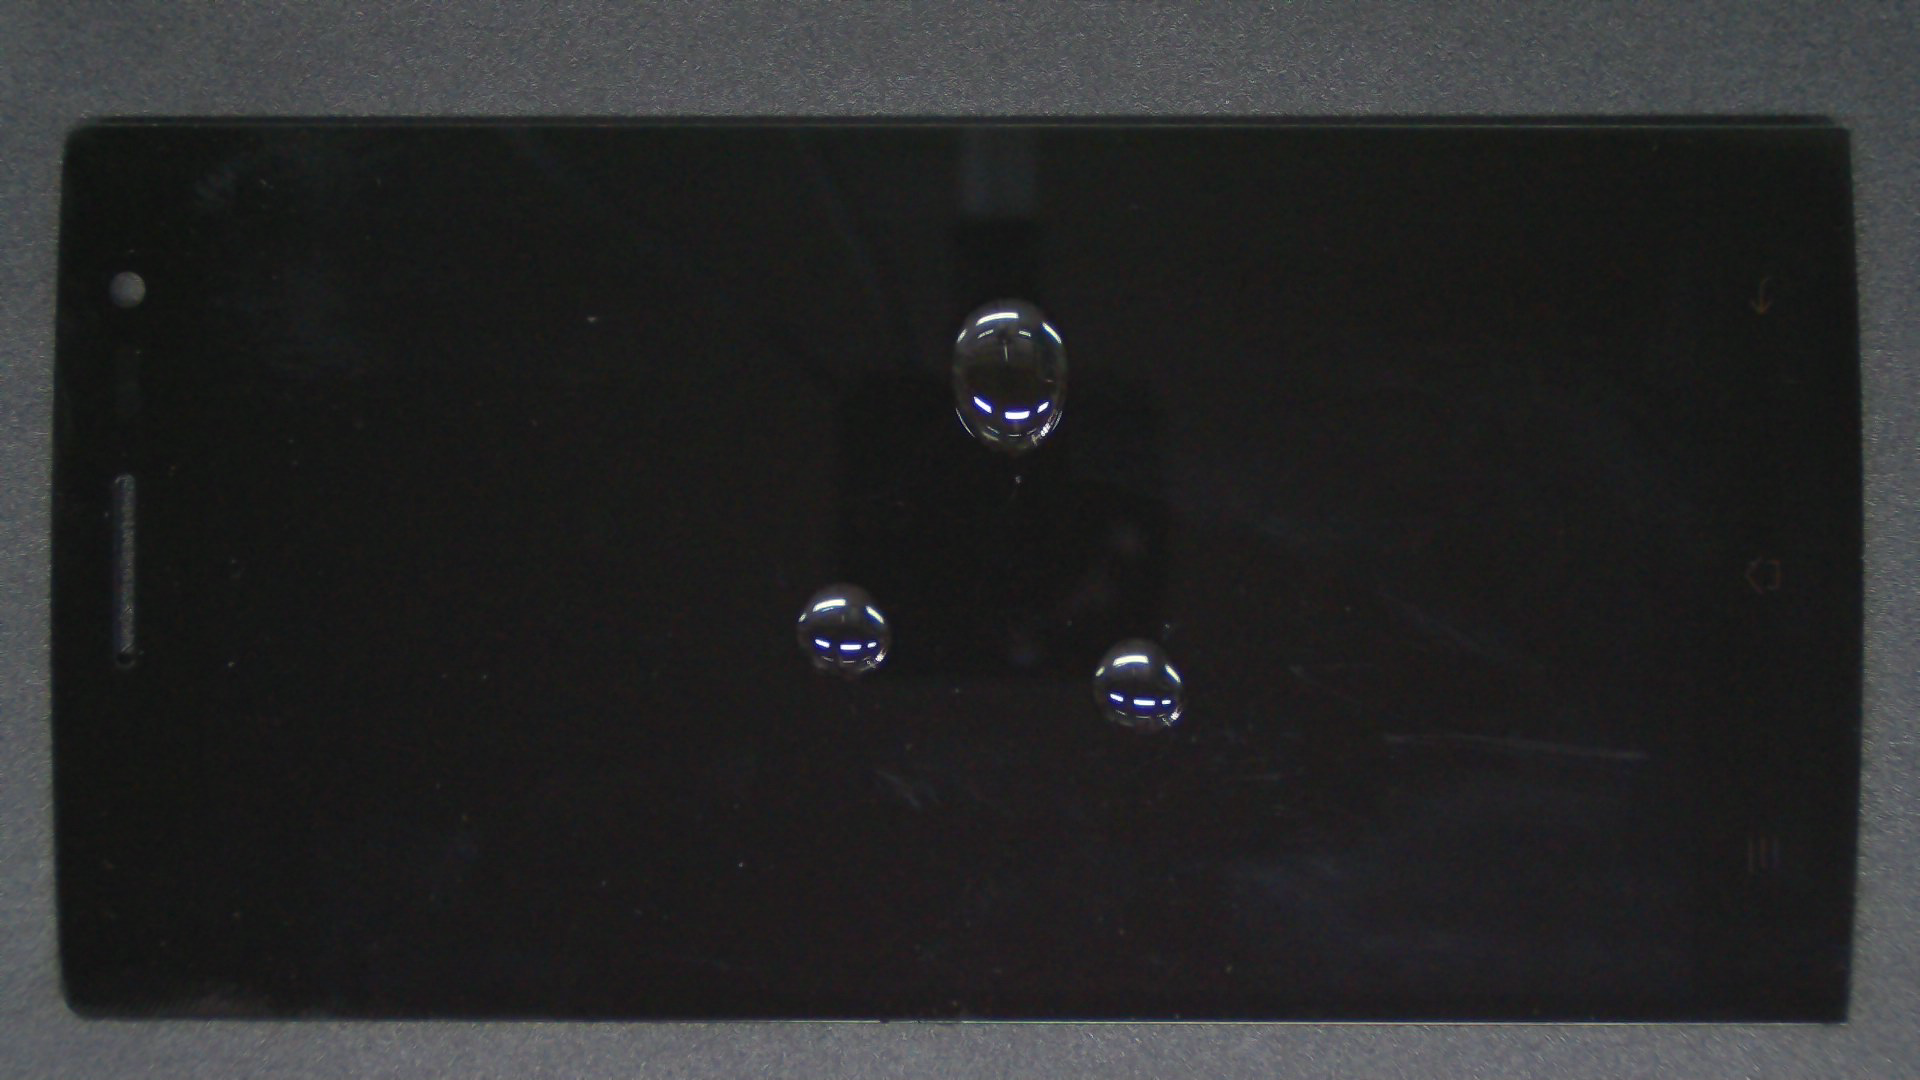defect: (949, 299, 1067, 454), (794, 584, 891, 678), (1093, 640, 1185, 731)
